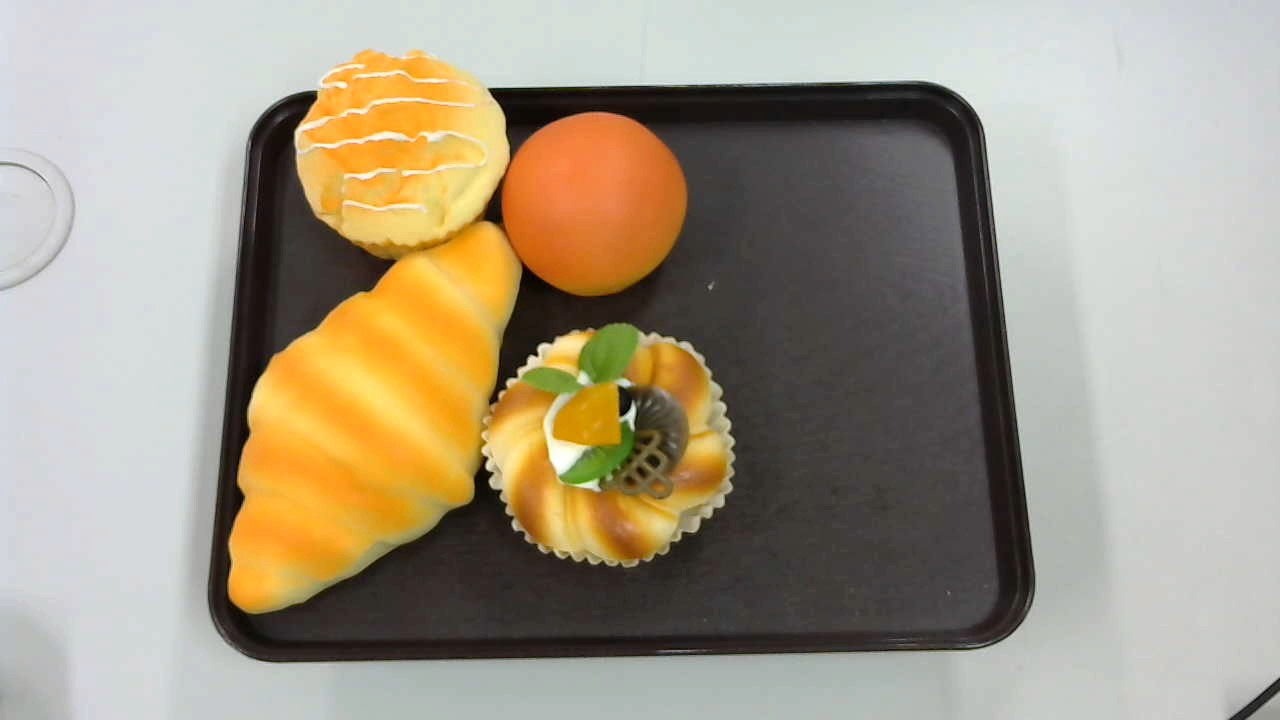bun: (501, 110, 689, 297)
croissant: (227, 219, 523, 615)
cupcake: (293, 47, 512, 263)
fruit tart: (482, 323, 738, 565)
